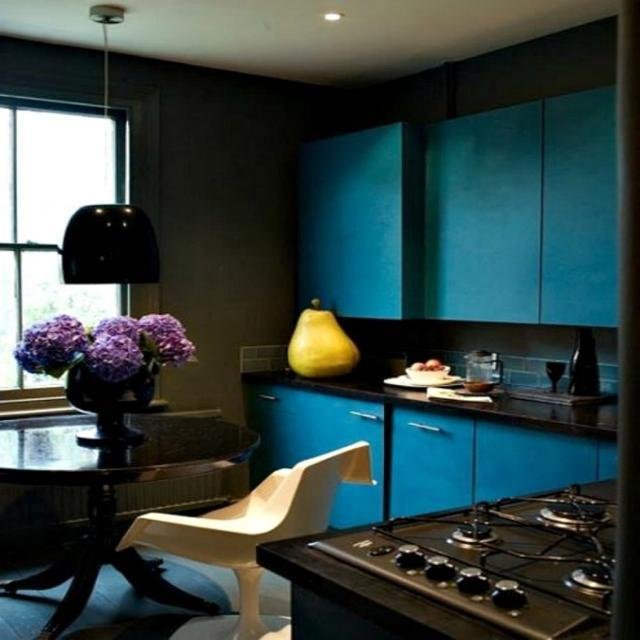Pear: (290, 310, 361, 376)
